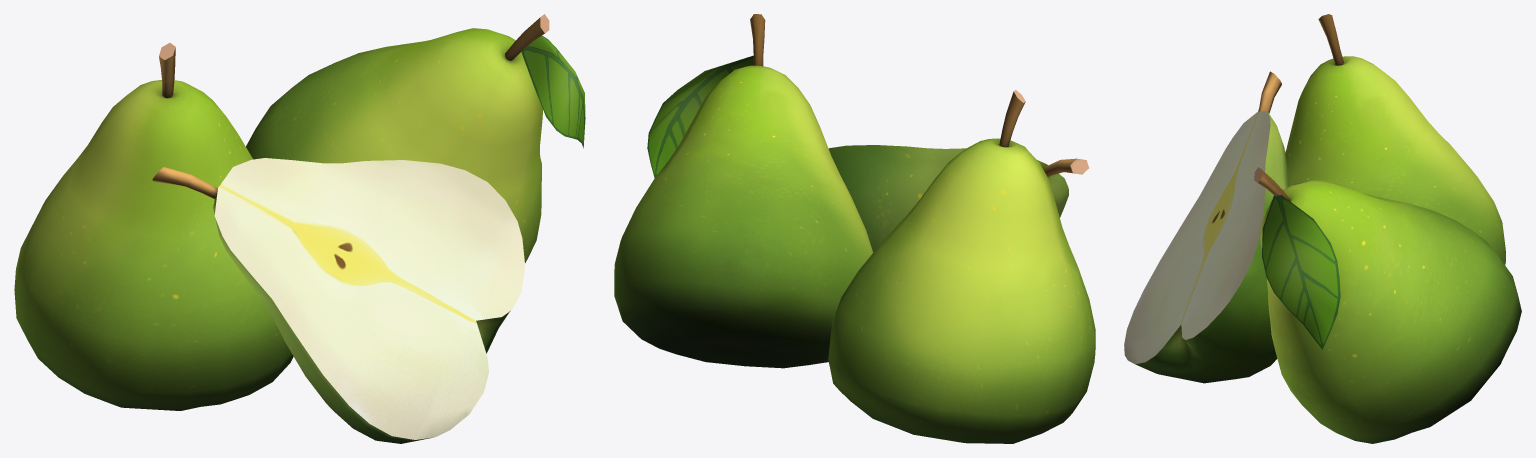
The model's file is Pear.fbx.
The picture shows the model from 3 angles, left to right: view 1: azimuth 30°, elevation 25°; view 2: azimuth 150°, elevation 25°; view 3: azimuth 270°, elevation 25°; orthographic projection. The views are drawn at different scales.
Visible parts, largest first — view 1: 041; view 2: 041; view 3: 041.
Part boxes in pixels (x1,y1,x2,y2): 041: (14, 14, 585, 443); 041: (614, 14, 1095, 443); 041: (1124, 14, 1521, 443).
Bounding box in the file's own units: 51.93 × 35.03 × 41.9.
1 material, 1 textured.
